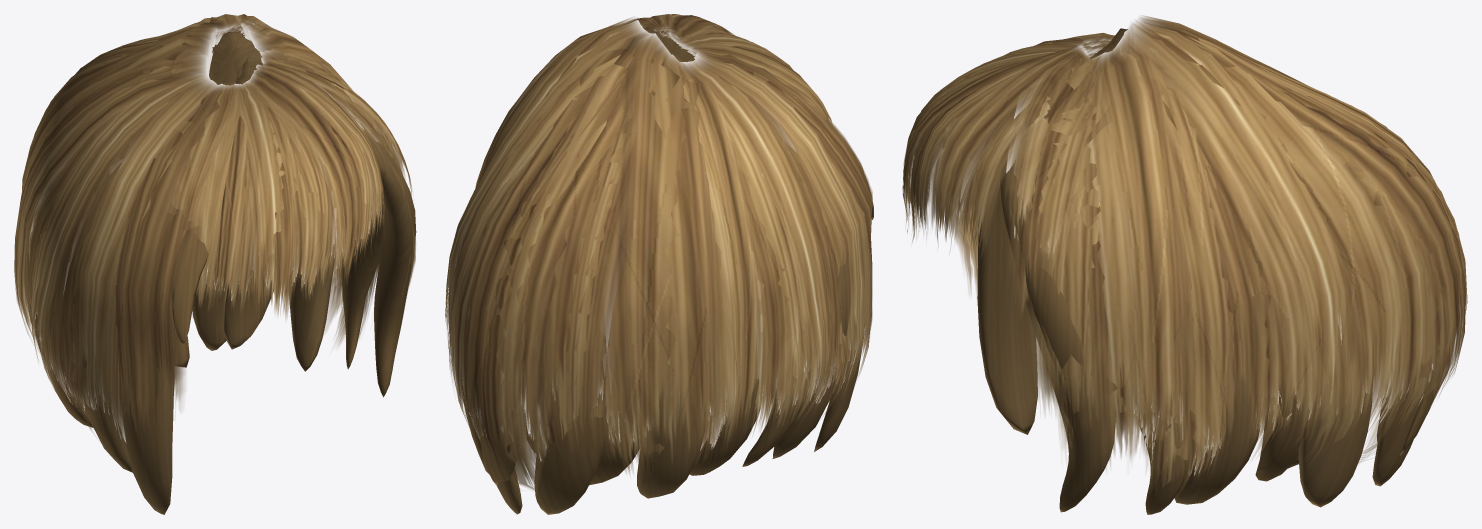
The model's file is q_casual_blond.glb.
3 views of the same model, side by side, from view 1: azimuth 30°, elevation 25°; view 2: azimuth 150°, elevation 25°; view 3: azimuth 270°, elevation 25° (orthographic). The views are drawn at different scales.
Parts seen in each view (by area): view 1: locks, shell; view 2: locks, shell; view 3: locks, shell.
Boxes of the visible parts, x1,y1,x2,y2 form: locks: (14, 14, 415, 455); shell: (26, 31, 416, 514); locks: (445, 14, 872, 490); shell: (461, 27, 873, 514); locks: (902, 15, 1467, 497); shell: (977, 28, 1447, 514).
Size of the model in its own units: 21.6 by 25.65 by 26.98.
Materials: 2 (2 with a texture image).
